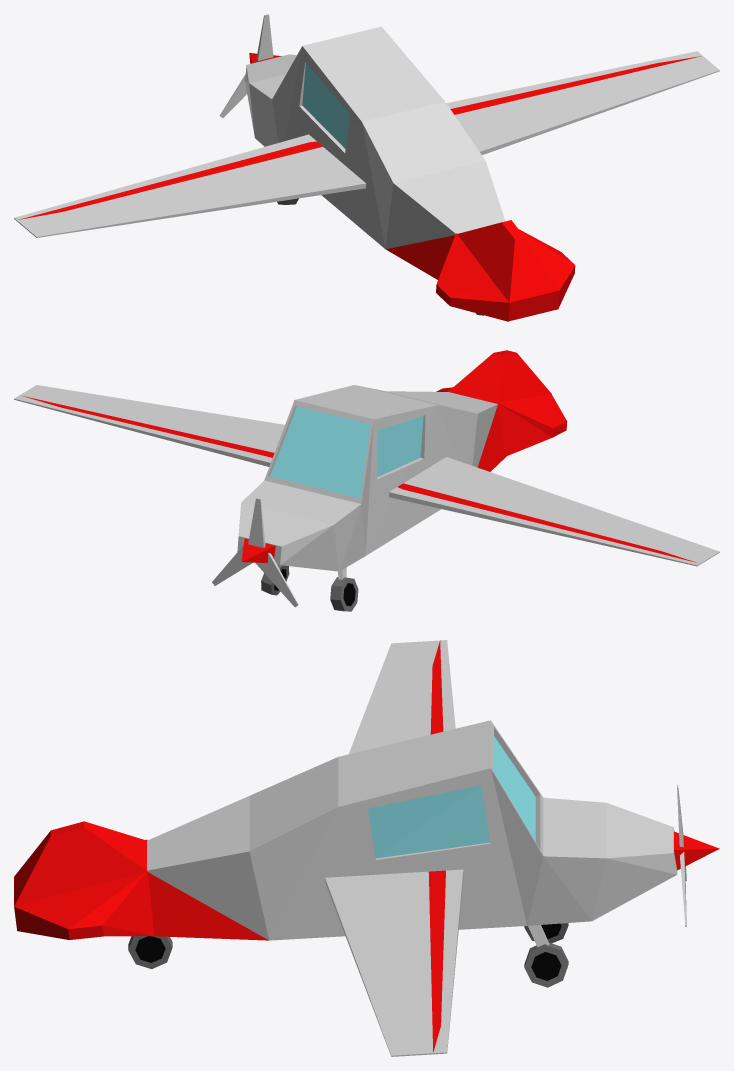
The model's file is Airplane.fbx.
3 renders of one model, top to bottom at view 1: azimuth 30°, elevation 25°; view 2: azimuth 150°, elevation 25°; view 3: azimuth 270°, elevation 25°, orthographic. The views are drawn at different scales.
Visible parts, largest first — view 1: Airplane; view 2: Airplane; view 3: Airplane.
Boxes of the visible parts, <box> form: Airplane: <box>14,14,719,321</box>; Airplane: <box>14,350,719,611</box>; Airplane: <box>14,640,719,1056</box>.
Size of the model in its own units: 111 by 27.5 by 79.99.
